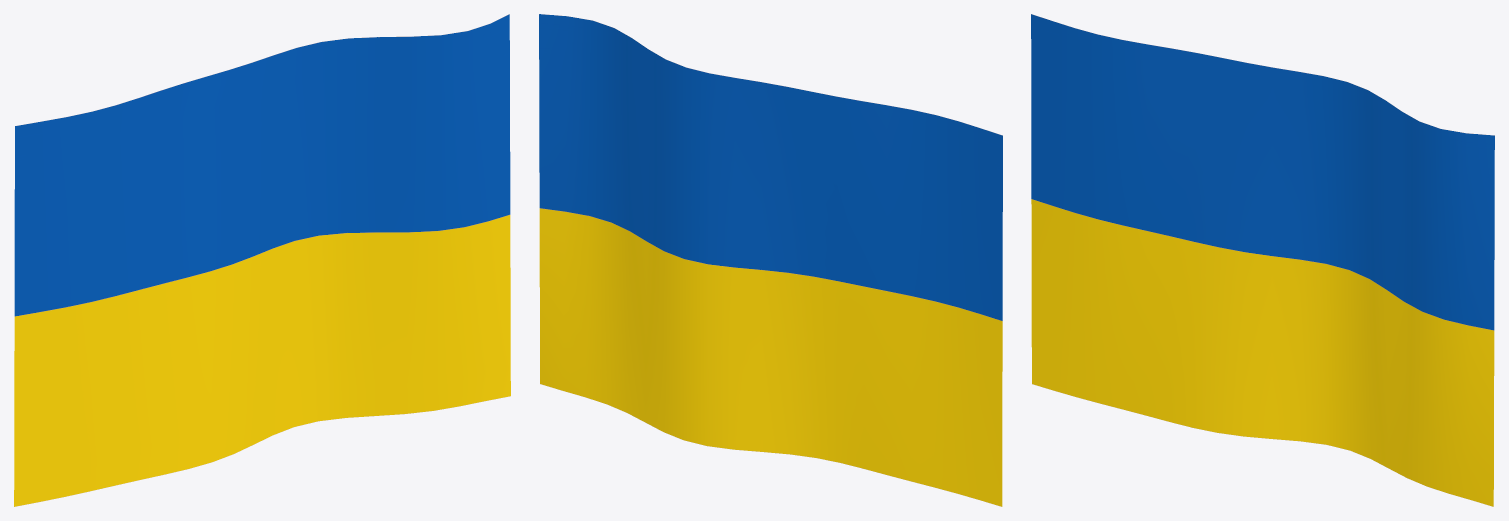
Rendered from UA_Ukraine.glb.
The picture shows the model from 3 angles, left to right: view 1: azimuth 30°, elevation 25°; view 2: azimuth 150°, elevation 25°; view 3: azimuth 330°, elevation 25°; orthographic projection. The views are drawn at different scales.
Visible parts, largest first — view 1: UA_flag; view 2: UA_flag; view 3: UA_flag.
Part boxes in pixels (<box>): UA_flag: <box>14,14,510,506</box>; UA_flag: <box>539,14,1002,506</box>; UA_flag: <box>1031,14,1494,506</box>.
Size of the model in its own units: 1.33 by 1 by 0.1347.
1 material, 1 textured.
